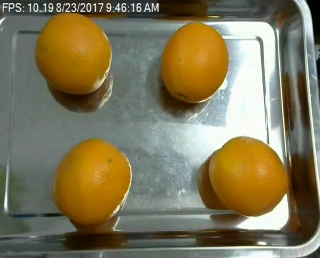Orange: (53, 137, 133, 224), (208, 135, 290, 215), (36, 12, 113, 93), (161, 21, 229, 101)
